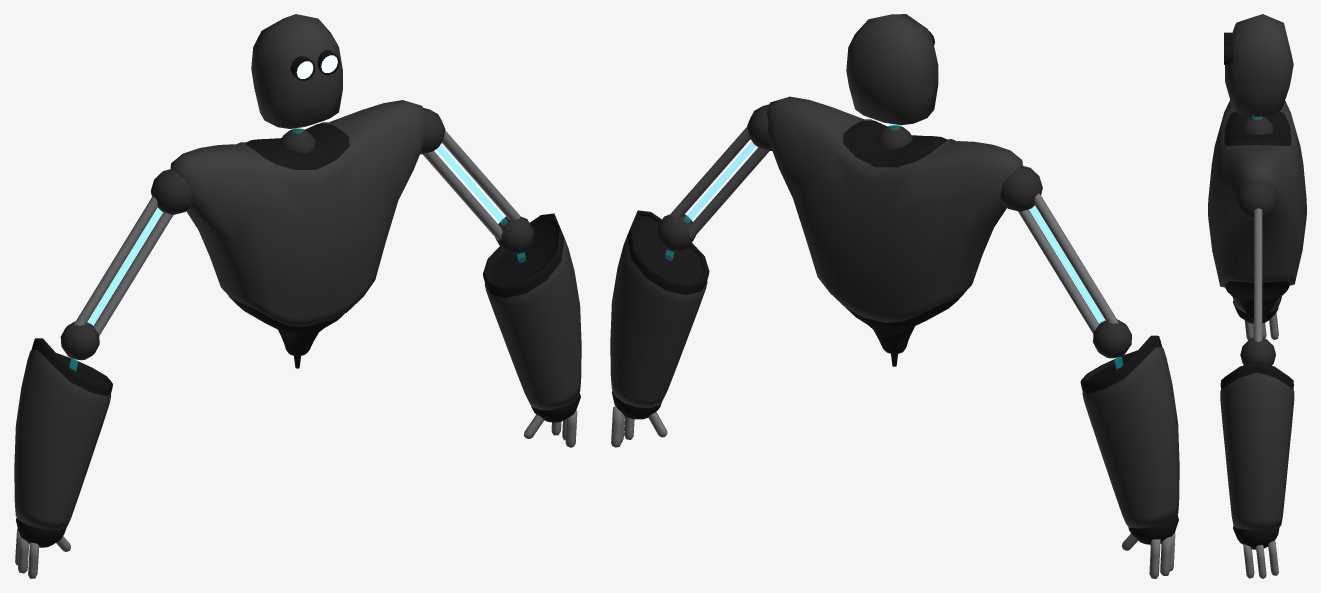
Rendered from CHR_CombatEnemy_Model_V07.FBX.
3 views of the same model, side by side, from view 1: azimuth 30°, elevation 25°; view 2: azimuth 150°, elevation 25°; view 3: azimuth 270°, elevation 25° (orthographic). The views are drawn at different scales.
Parts seen in each view (by area): view 1: Box001, Cylinder012, Box007, Cylinder014, Cylinder013, Sphere007, Sphere005, Cylinder015, Sphere006; view 2: Box001, Cylinder012, Box007, Cylinder014, Cylinder013, Sphere007, Sphere005, Cylinder015, Sphere006, Box008; view 3: Box001, Cylinder012, Box007, Sphere005, Cylinder014, Sphere006, Sphere007, Sphere004, Box008, Box010, Box009, Cylinder016.
Part boxes in pixels (x1,y1,x2,y2): Box001: (170, 100, 425, 368); Cylinder012: (14, 213, 581, 530); Box007: (251, 14, 342, 128); Cylinder014: (74, 130, 520, 325); Cylinder013: (93, 151, 502, 335); Sphere007: (60, 216, 534, 360); Sphere005: (150, 108, 445, 214); Cylinder015: (88, 145, 506, 324); Sphere006: (16, 393, 580, 547); Box001: (767, 96, 1022, 366); Cylinder012: (610, 210, 1179, 528); Box007: (846, 14, 938, 125); Cylinder014: (670, 126, 1118, 323); Cylinder013: (688, 147, 1099, 333); Sphere007: (657, 214, 1131, 358); Sphere005: (747, 104, 1042, 211); Cylinder015: (684, 141, 1104, 323); Sphere006: (612, 390, 1178, 544); Box008: (611, 406, 1160, 578); Box001: (1208, 100, 1306, 320); Cylinder012: (1220, 296, 1294, 530); Box007: (1225, 14, 1293, 116); Sphere005: (1236, 181, 1278, 219); Cylinder014: (1254, 208, 1262, 342); Sphere006: (1233, 300, 1279, 549); Sphere007: (1240, 338, 1275, 365); Sphere004: (1240, 116, 1274, 134); Box008: (1268, 312, 1278, 575); Box010: (1243, 320, 1254, 578); Box009: (1256, 323, 1266, 578); Cylinder016: (1224, 43, 1232, 64).
Bounding box in the file's own units: 463 × 391 × 78.61.
